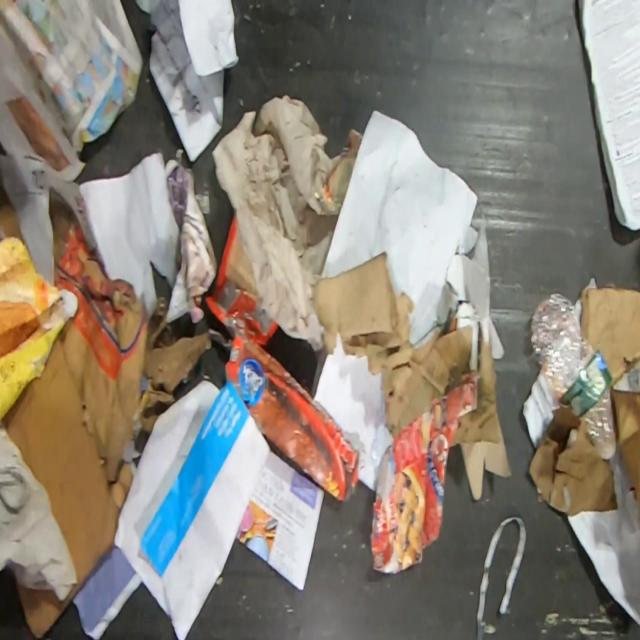cardboard: (2, 337, 120, 639), (312, 252, 474, 436), (368, 371, 480, 575), (579, 287, 640, 387)
rigid_plastic: (529, 292, 617, 460)
soft_plastic: (204, 211, 280, 345)
